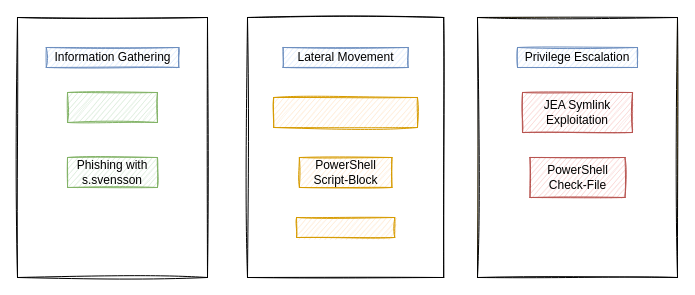
The diagram is 695 pixels wide and 295 high, and some of its shapes have lost their labels. The shapes that lost their labels are listed below. From the top down, each one's centre as x and y in pixels, then its label:
At point (112, 107): "Web Application Enumeration".
At point (345, 112): "PowerShell PS-Session with k.svensson".
At point (345, 227): "JEA Enumeration".
